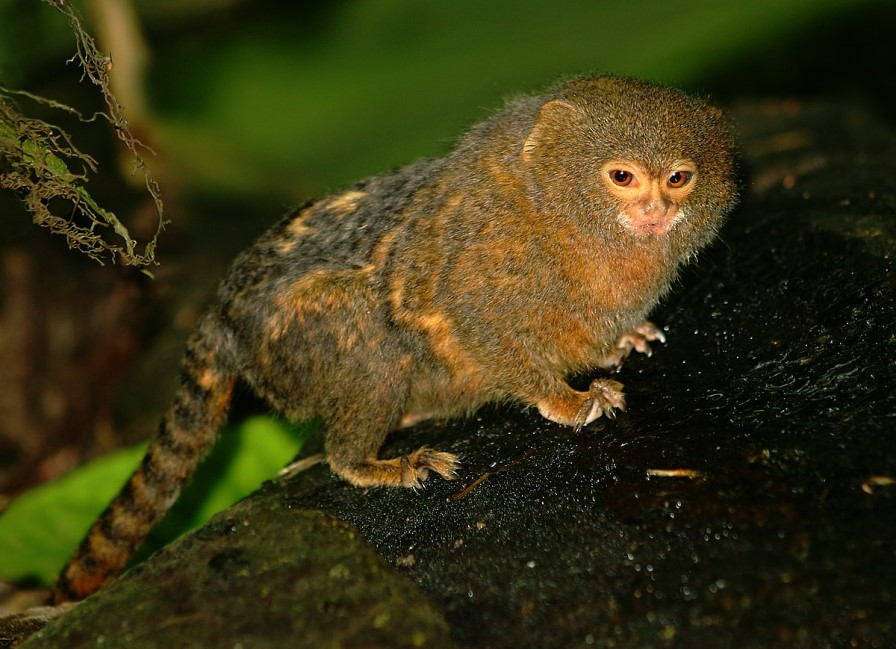PygmyMarmoset: (137, 71, 775, 494)
